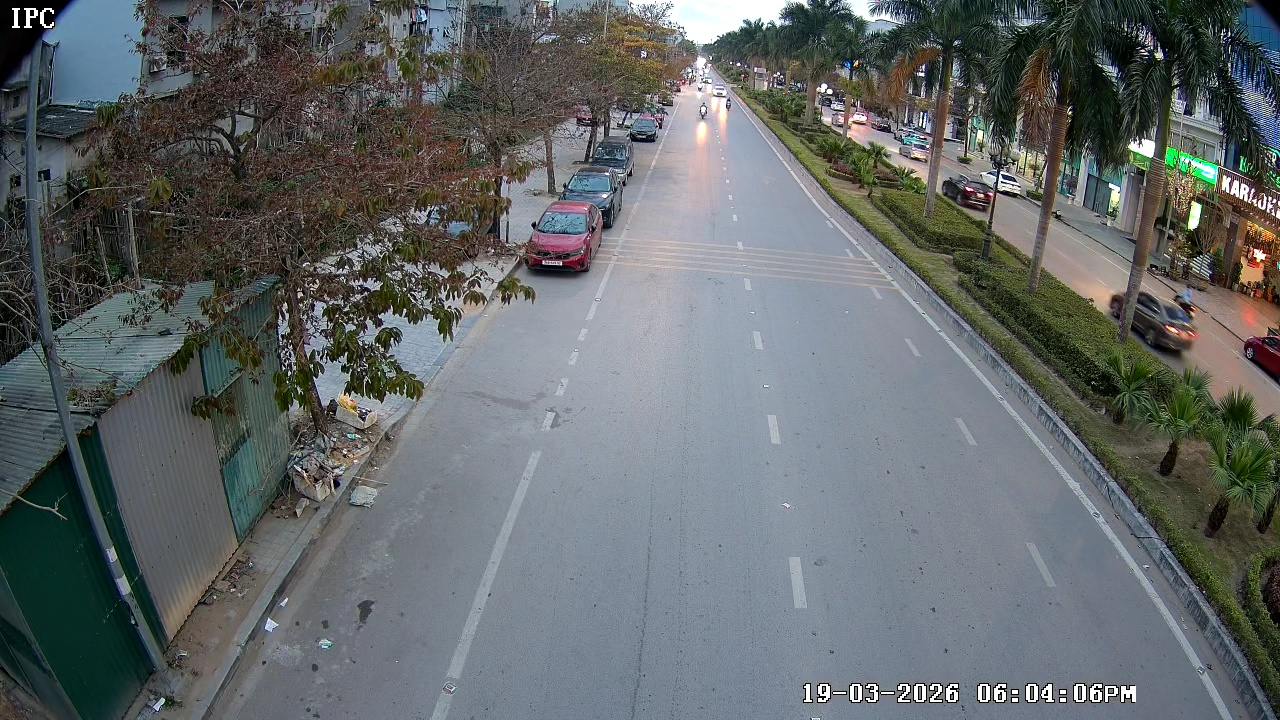car: (524, 201, 601, 276), (560, 170, 623, 230), (629, 116, 662, 146)
motorbike: (698, 102, 710, 120)
